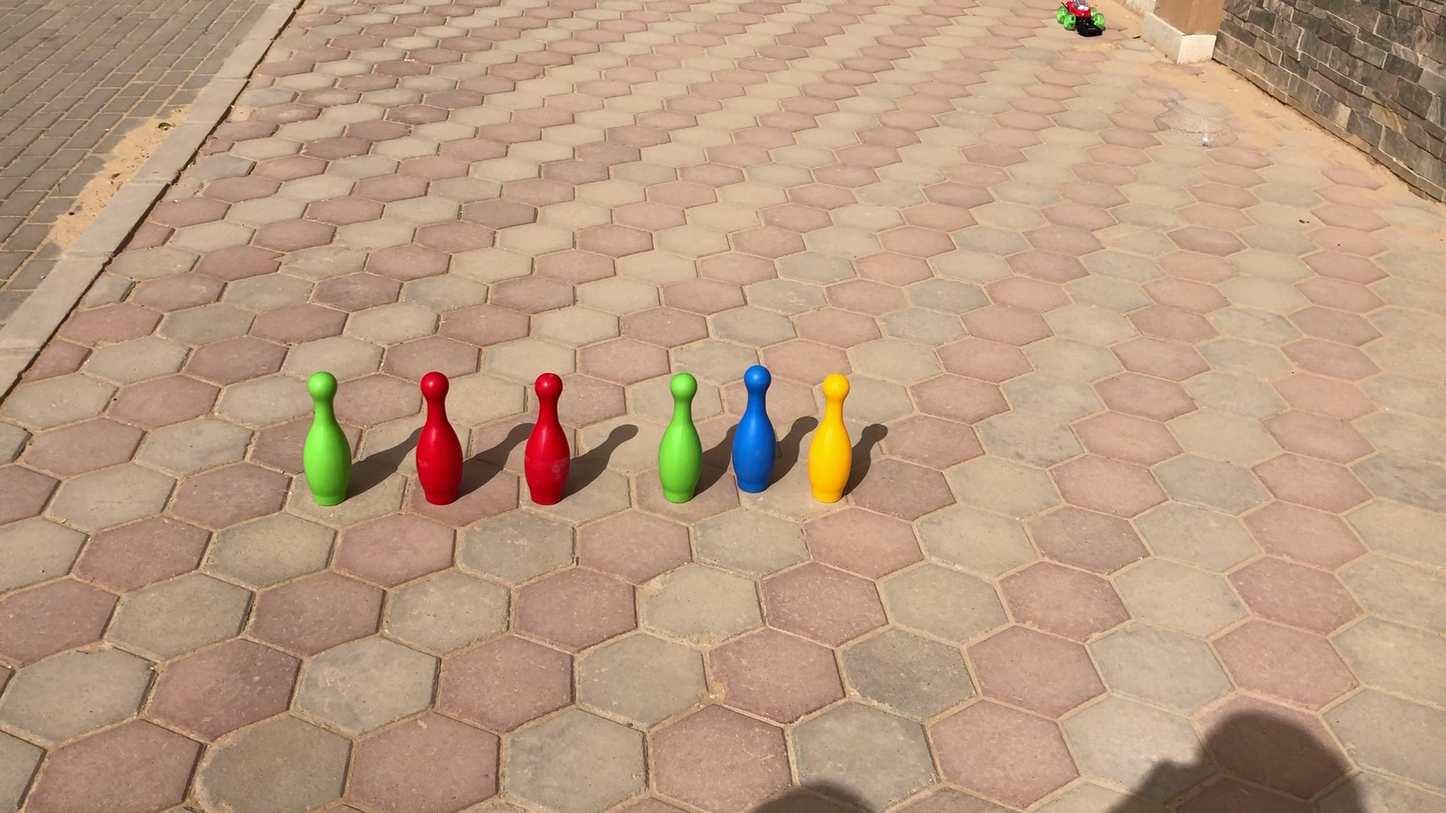bowling-pin: (410, 373, 462, 504), (302, 372, 349, 504), (728, 364, 775, 492), (809, 374, 856, 501), (656, 373, 702, 501), (525, 373, 569, 504)
